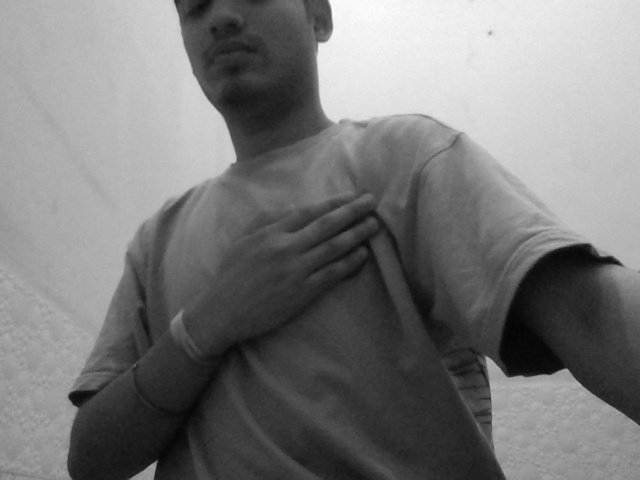Sorry: (192, 181, 406, 335)
